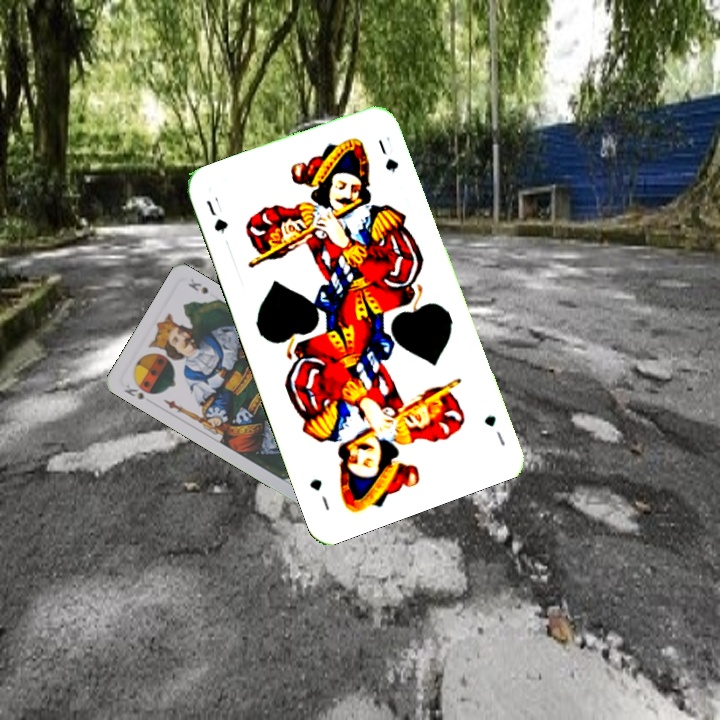GU: (202, 196, 231, 236), (480, 411, 508, 449)
SK: (120, 381, 148, 402)
